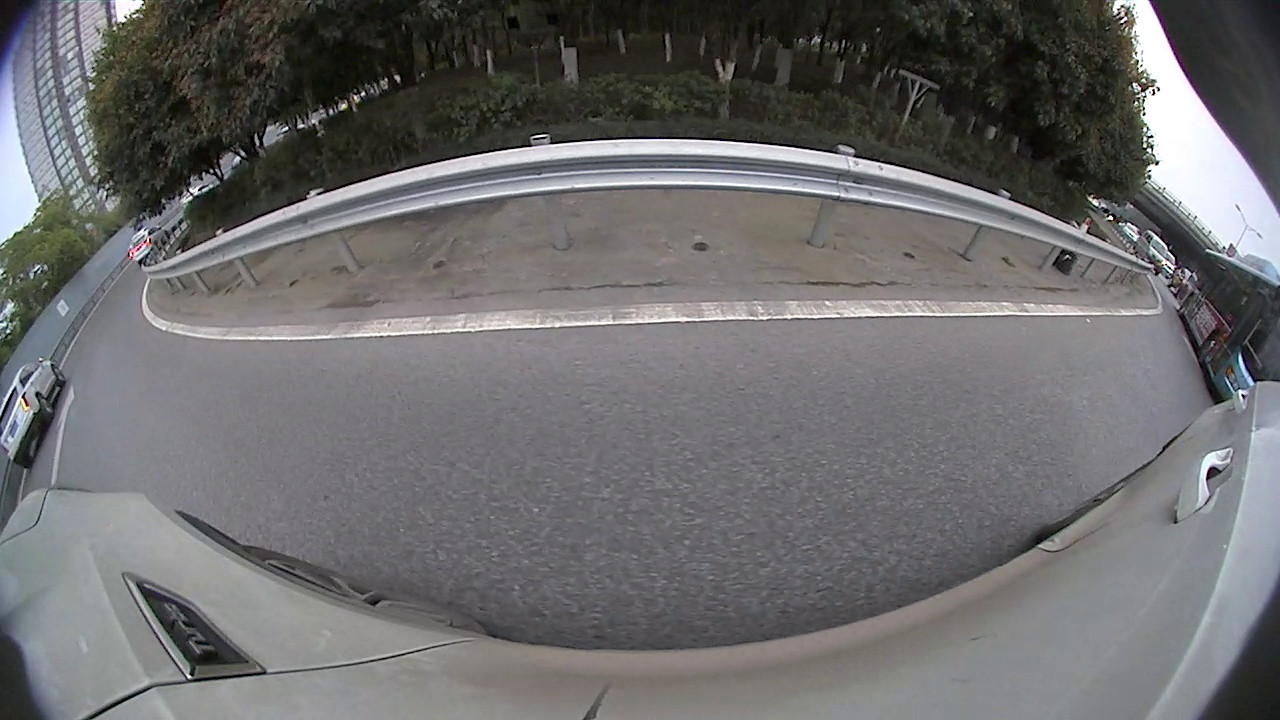bus: (1175, 249, 1278, 399)
car: (1, 358, 67, 470), (127, 224, 171, 263), (1138, 231, 1169, 274)
front: (1194, 332, 1219, 364), (51, 366, 68, 385)
rear: (35, 396, 58, 419)
